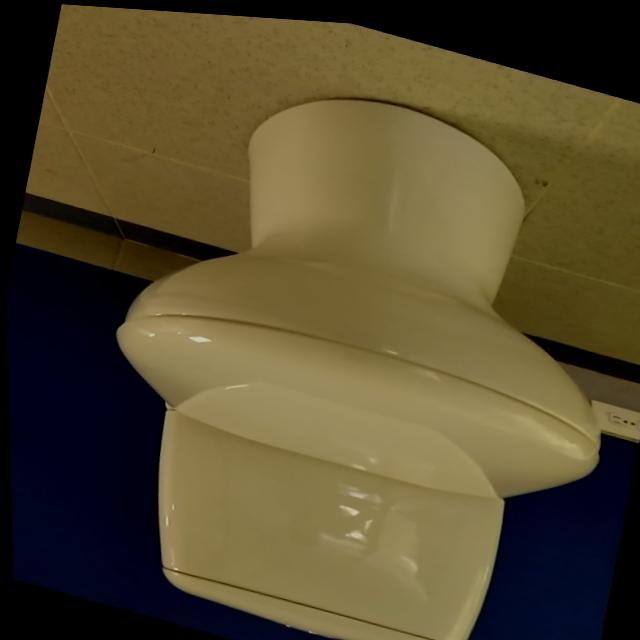toilet: (57, 33, 640, 640)
